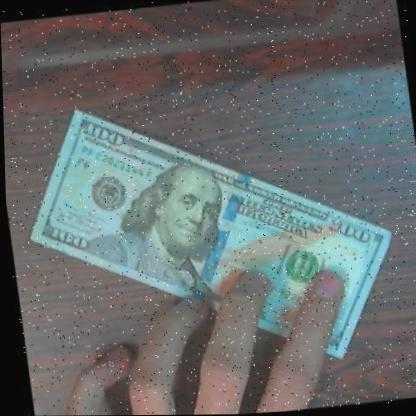one_hundred-front: (7, 67, 414, 396)
